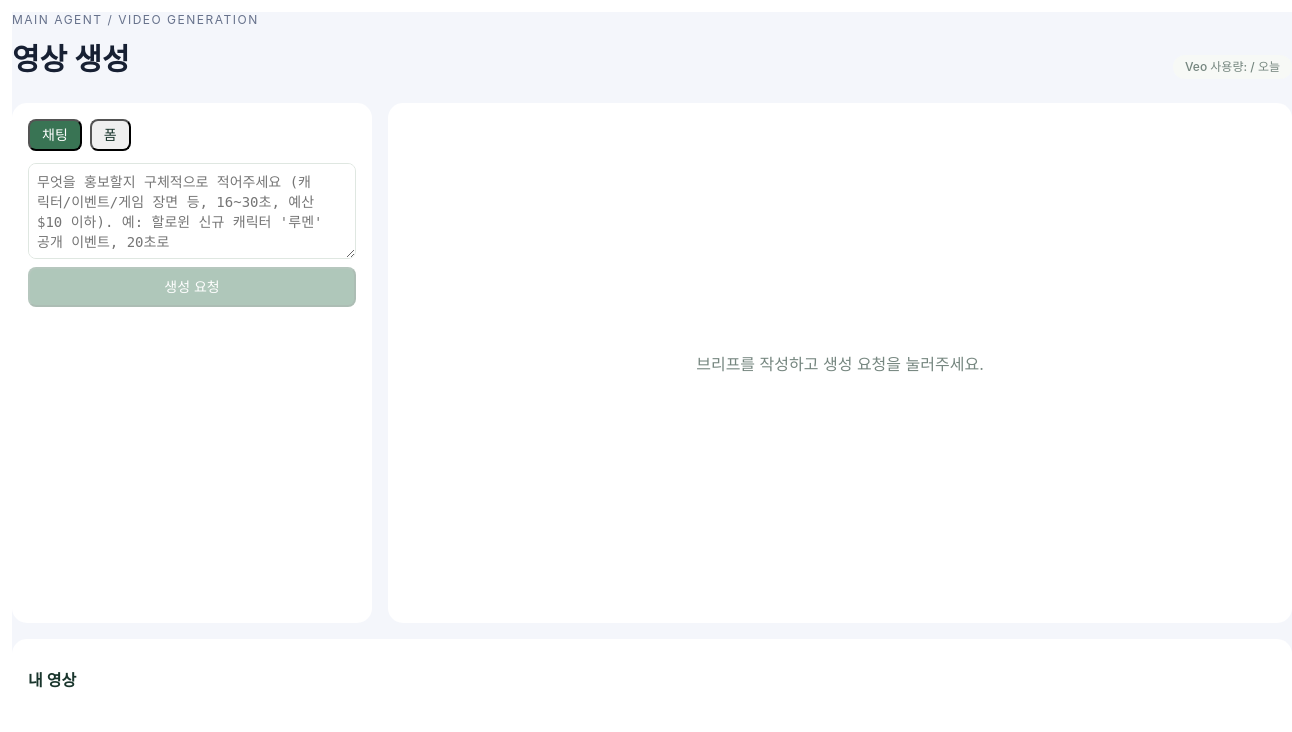
Test case: VideoAgentPage › shows a cancel button while a task needs a manual fix, and reflects the canceled state after canceling
The image size is (1292, 732).
Step 1. Type "할로윈 이벤트 영상 15초" into the text box named "영상 브리프" → (192, 211), box [28, 163, 356, 259]
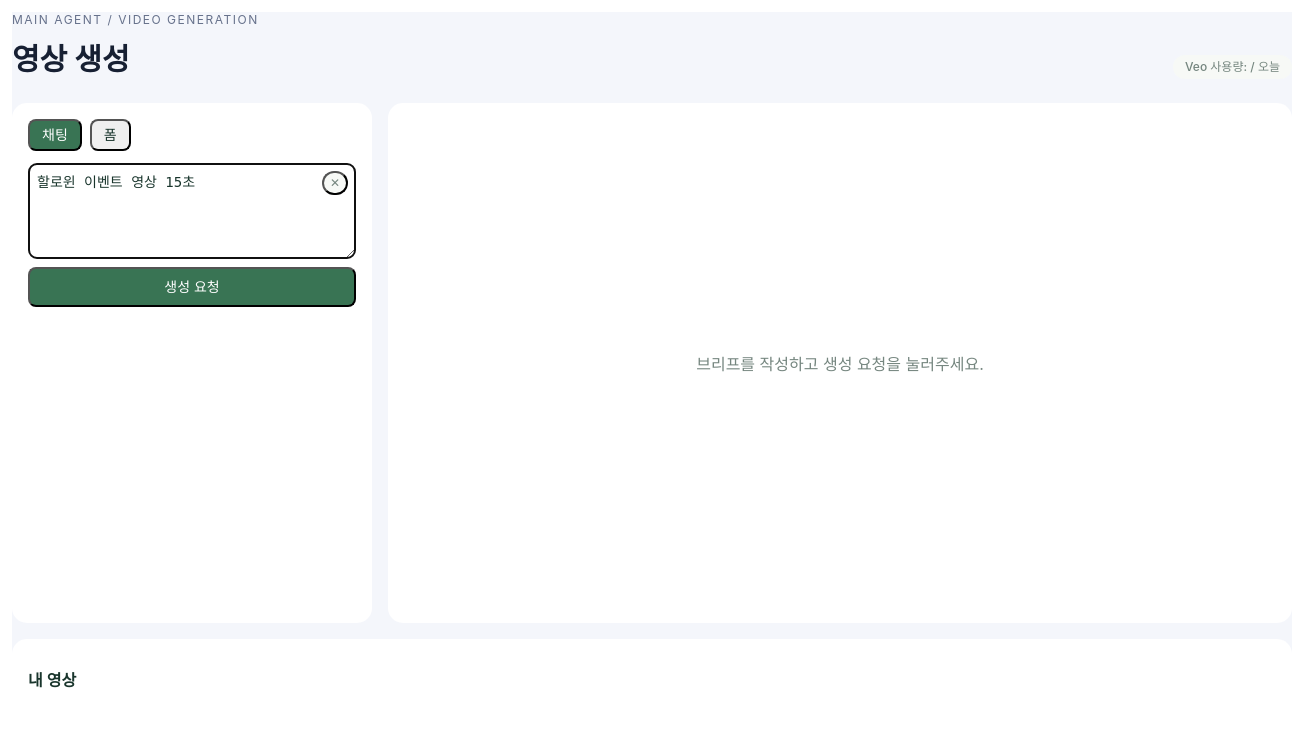
Step 2. Click the button "생성 요청" → (192, 287), box [28, 267, 356, 307]
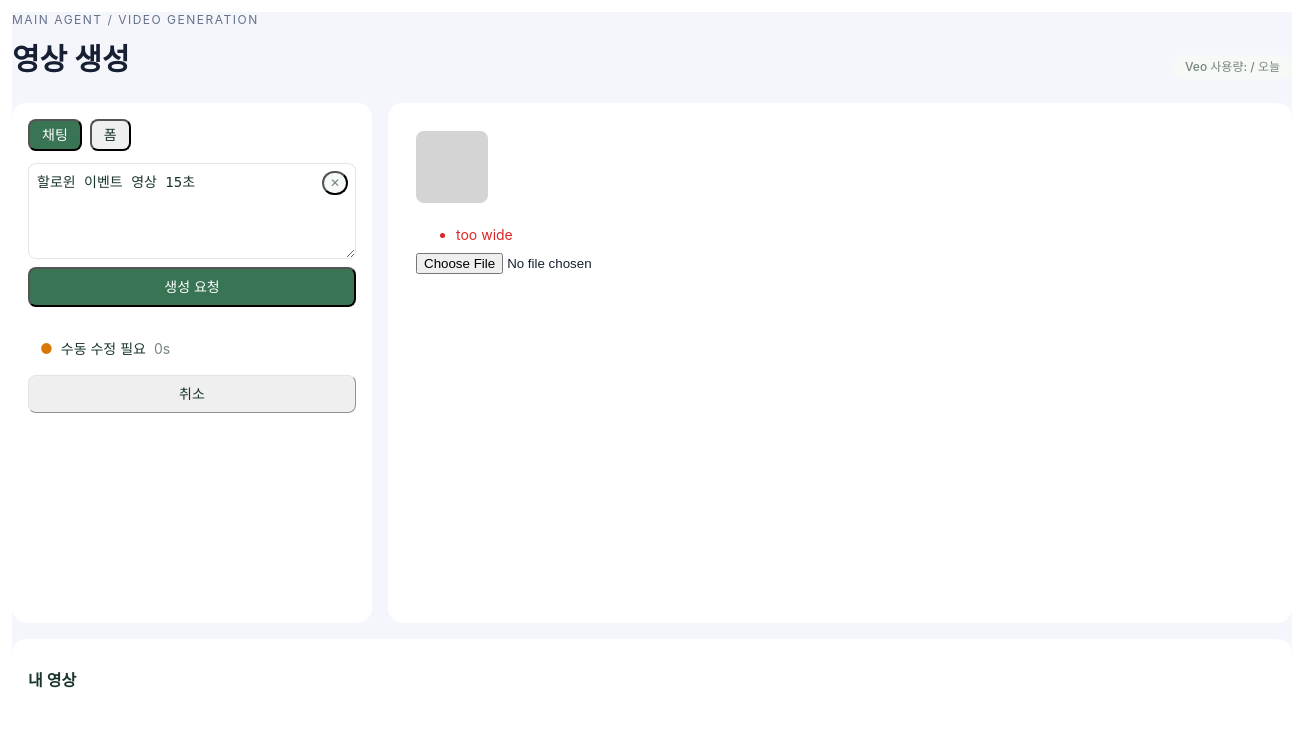
Expected: the element with test id "scene-card-scene_04" is shown, [404, 119, 1276, 286]
Step 3. Click the button "취소" → (192, 394), box [28, 375, 356, 413]
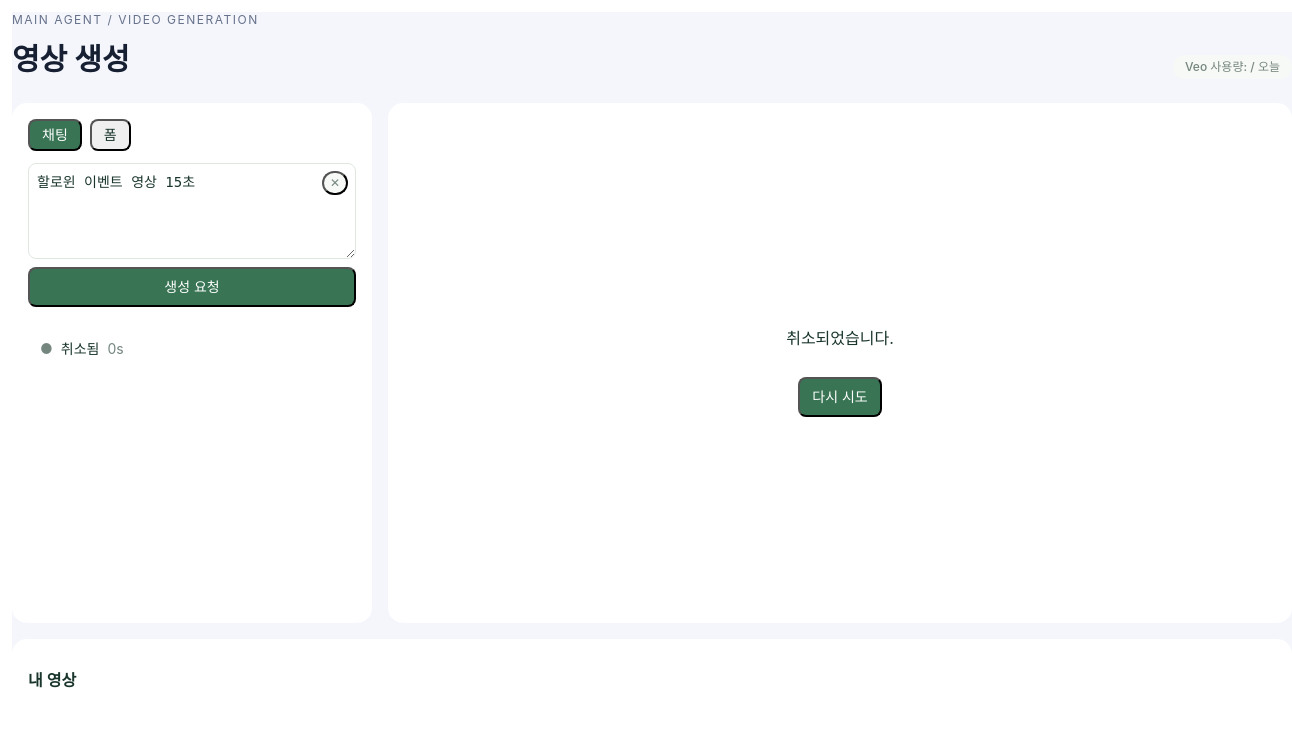
Expected: the element with test id "canvas-error" shows "취소되었습니다.", [786, 328, 894, 348]
